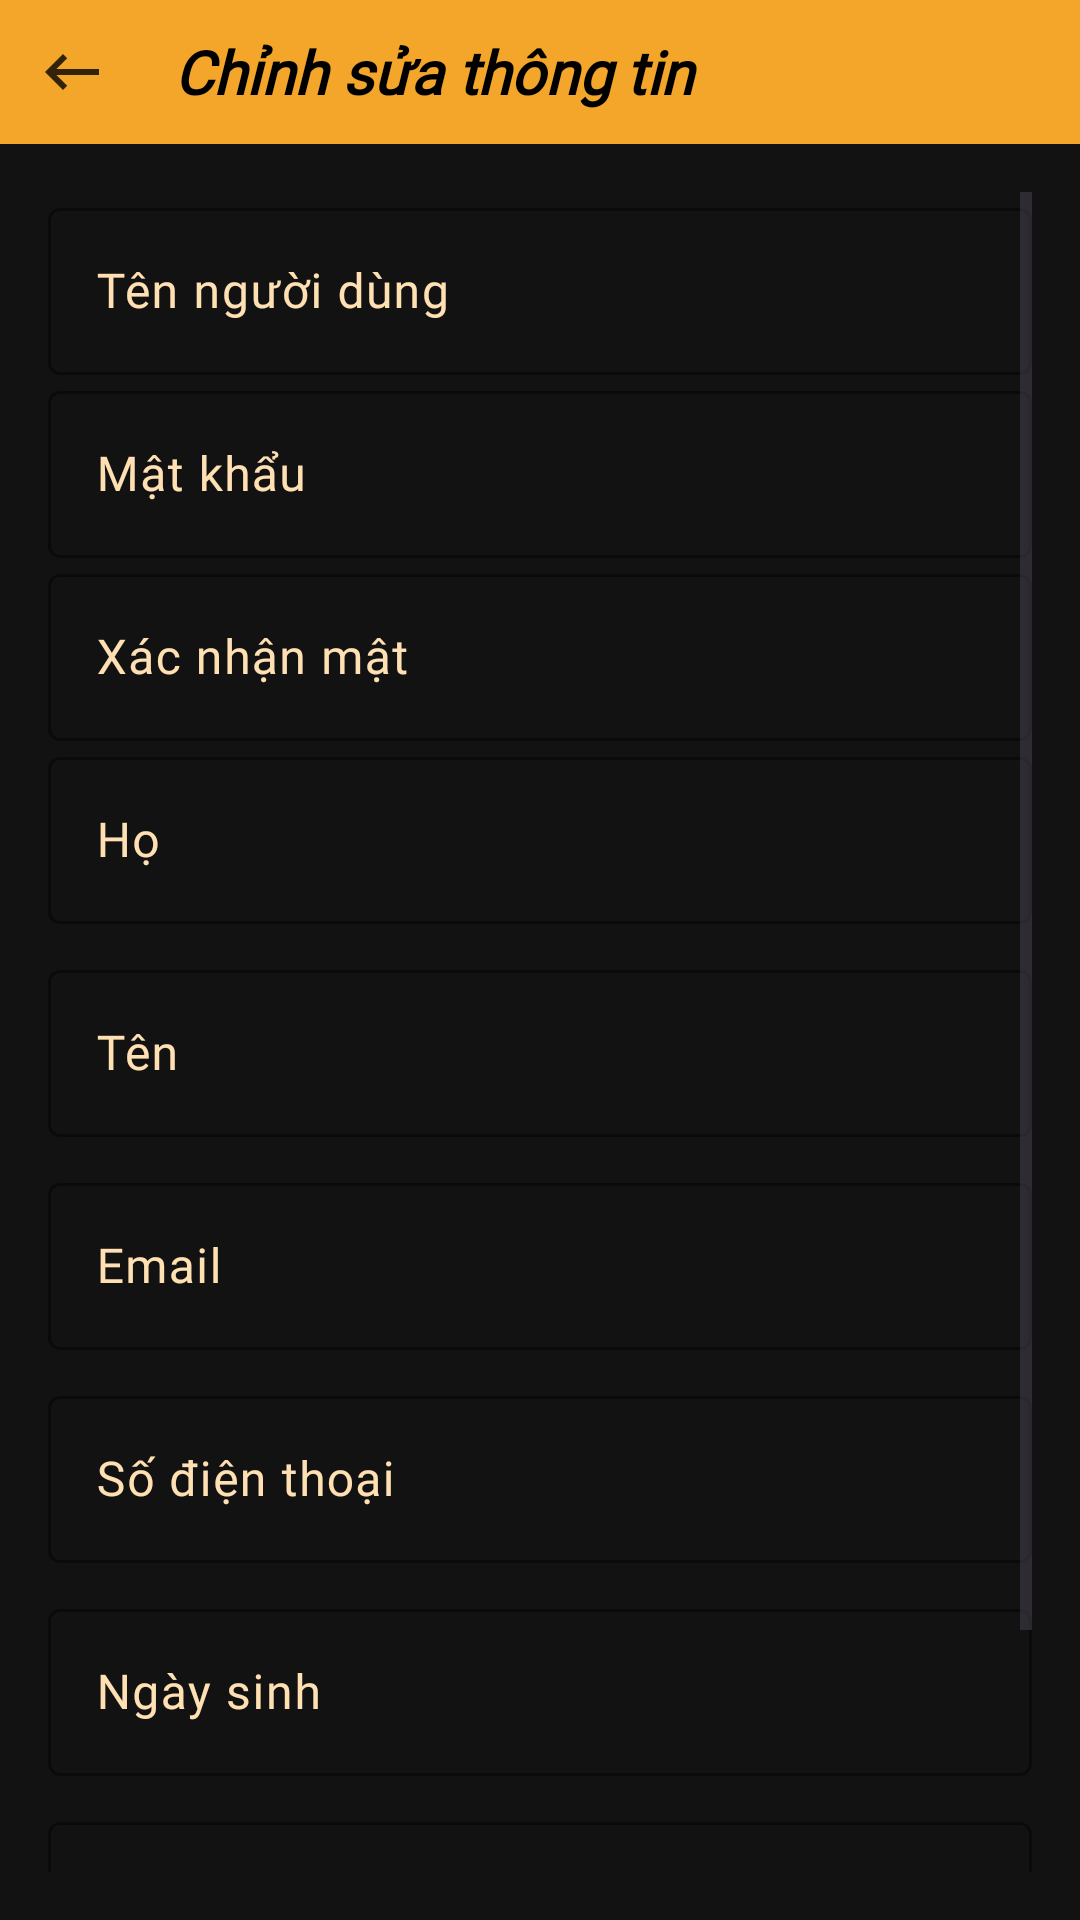

Where icons sit on this 1080x1920 app screen, as [left=x1, top=y1, right=x2, bottom=y2]:
go back: [left=45, top=54, right=99, bottom=90]
